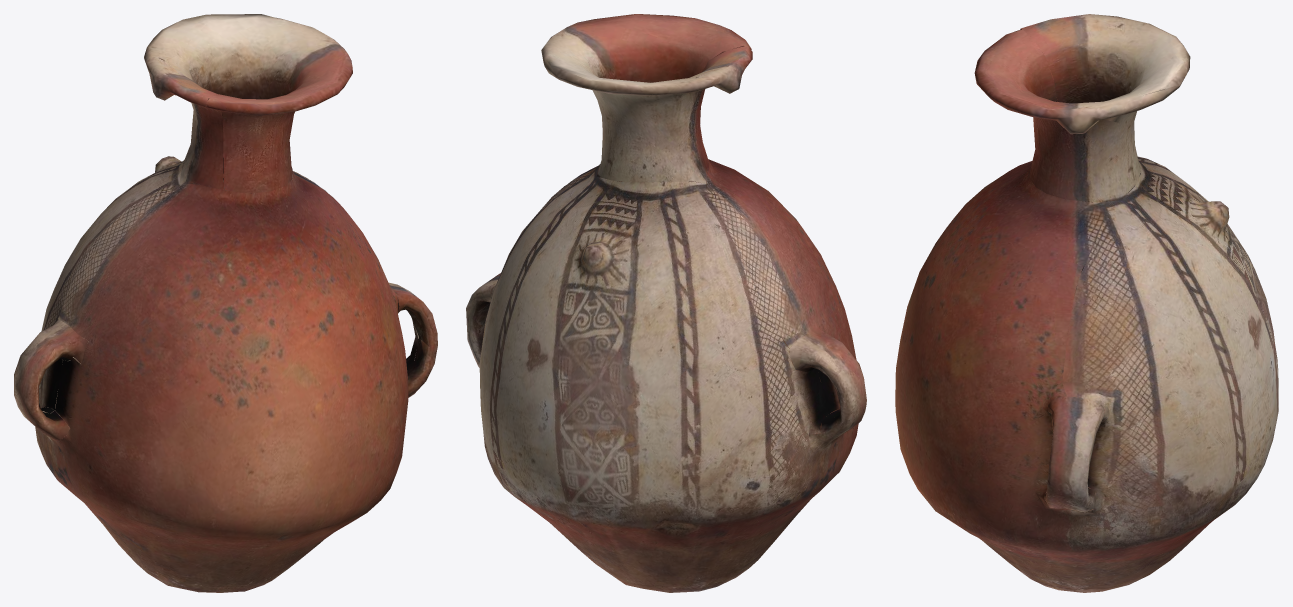
The picture shows the model from 3 angles, left to right: view 1: azimuth 30°, elevation 25°; view 2: azimuth 150°, elevation 25°; view 3: azimuth 270°, elevation 25°; orthographic projection. The views are drawn at different scales.
Visible parts, largest first — view 1: Mesh_0.001; view 2: Mesh_0.001; view 3: Mesh_0.001.
Boxes of the visible parts, left/top/right/bottom form: Mesh_0.001: left=14, top=14, right=437, bottom=592; Mesh_0.001: left=466, top=14, right=866, bottom=592; Mesh_0.001: left=895, top=14, right=1278, bottom=592.
Bounding box in the file's own units: 0.4951 × 0.6072 × 0.3998.
Materials: 1 (1 with a texture image).
